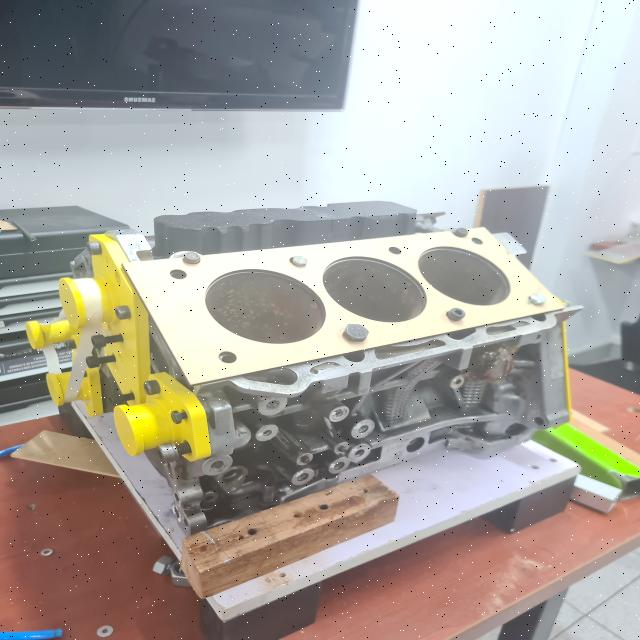vista1: (122, 227, 568, 385)
